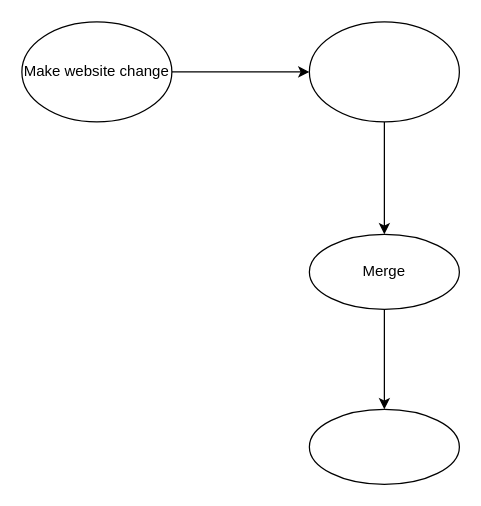
Some shapes in this 481 by 506 pixel diagram are drawn without their labels. Each missing label, with the centre of its shape:
Build and Deploy: pixel 383 446
Create pull request: pixel 383 71
